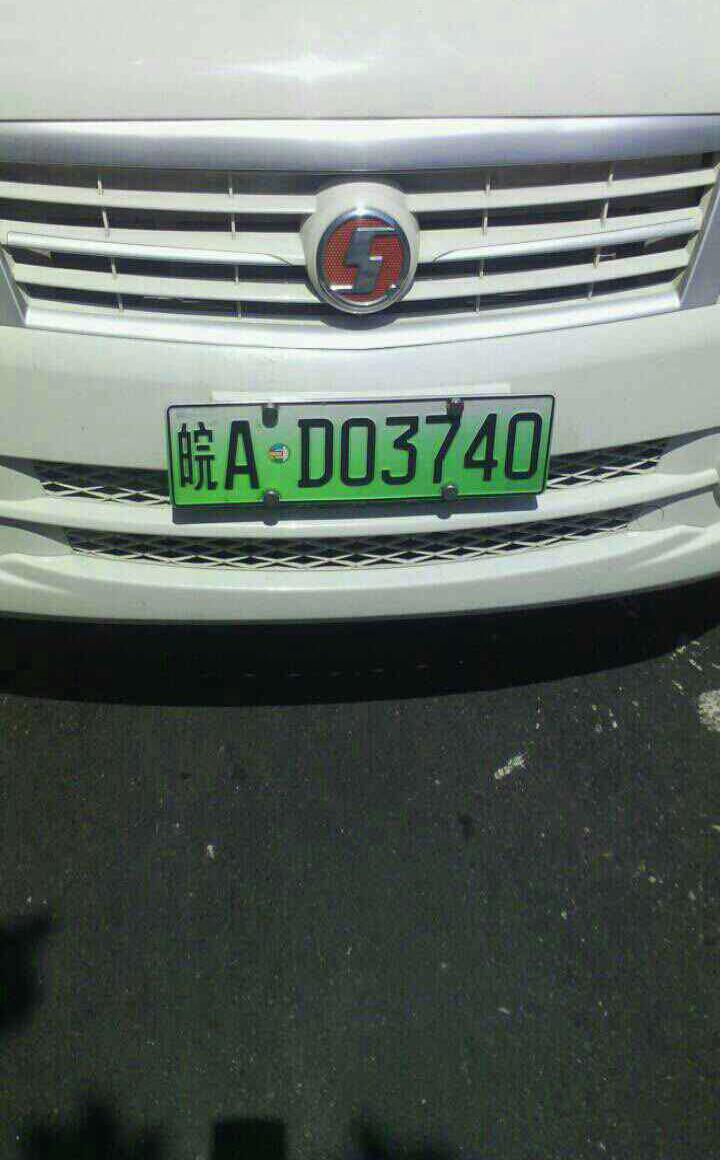car_id: (169, 393, 549, 512)
